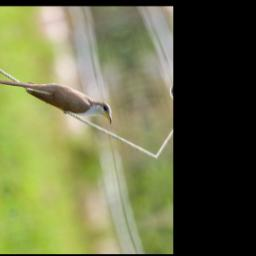Cuckoo: (0, 51, 115, 151)
